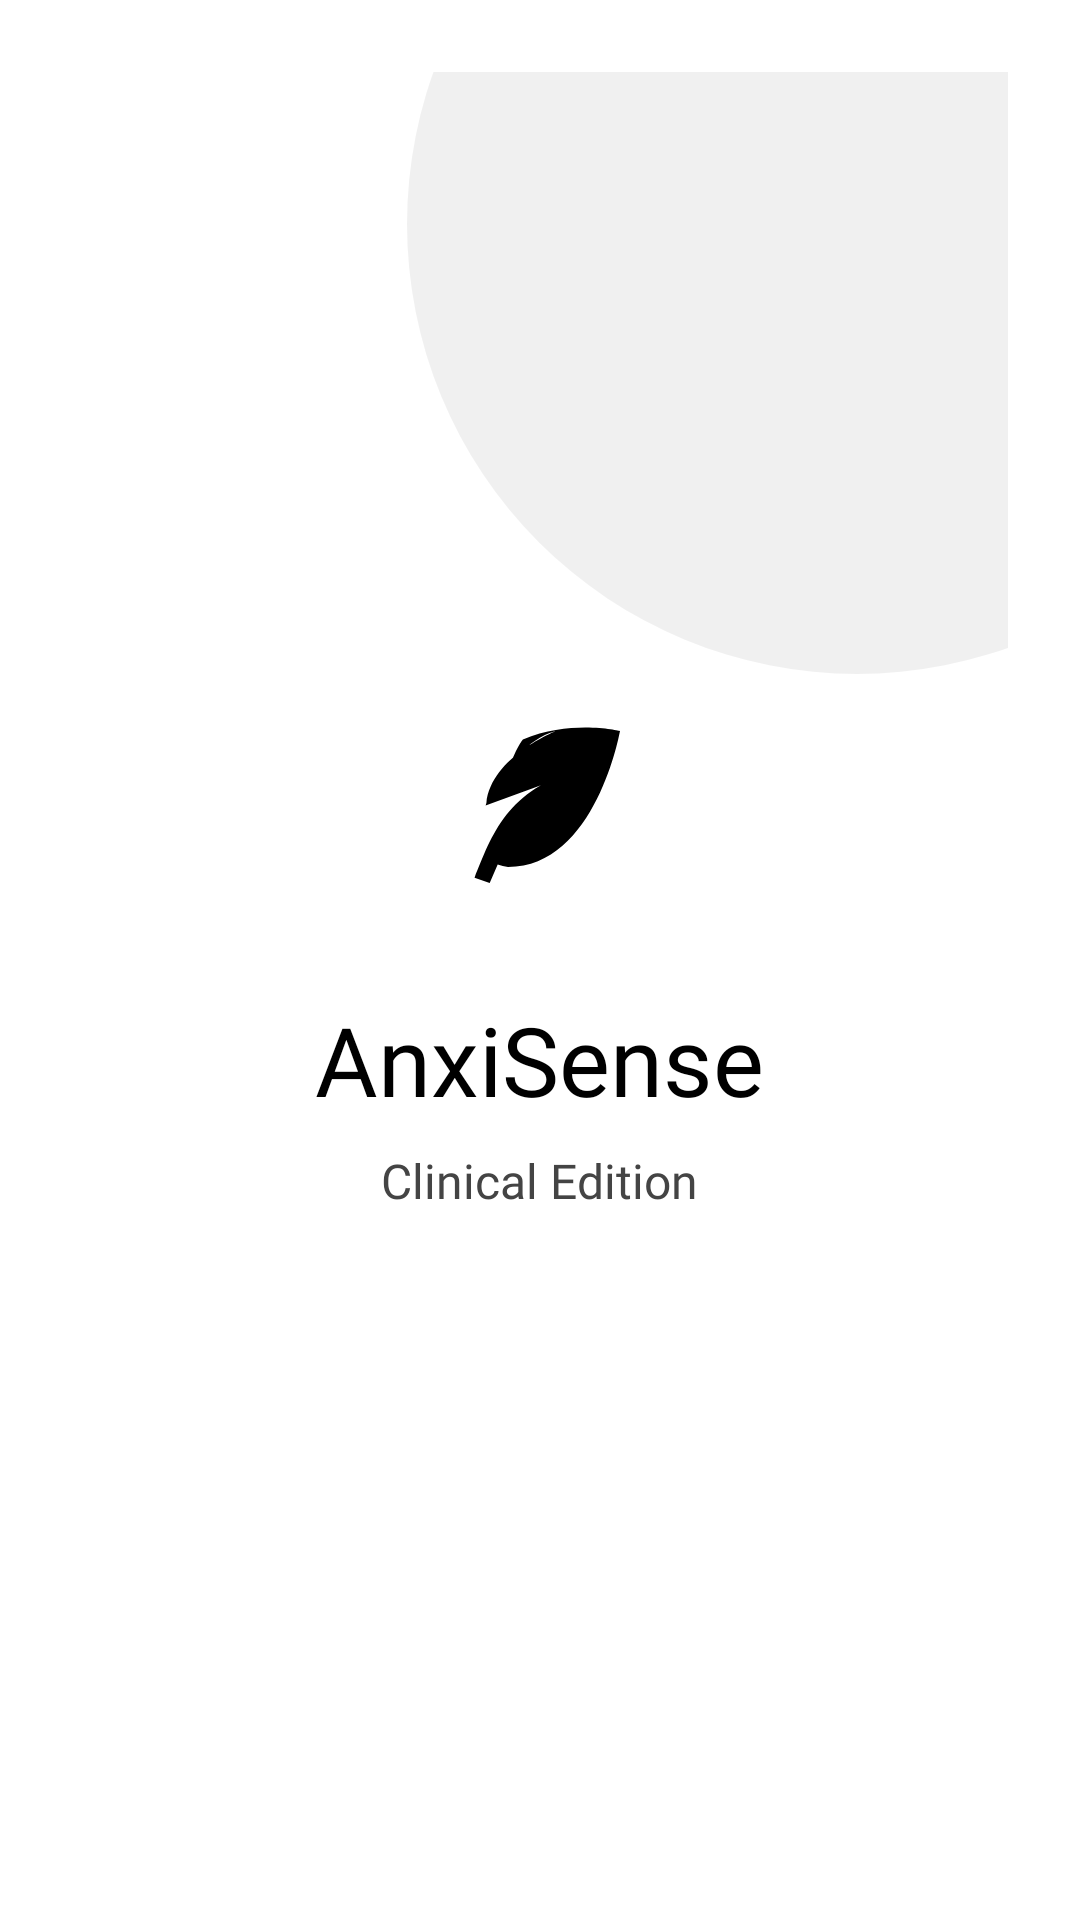

Named icons in this screenshot (1080×1920) and their centers, [x,y]:
leaf: [547,805]
